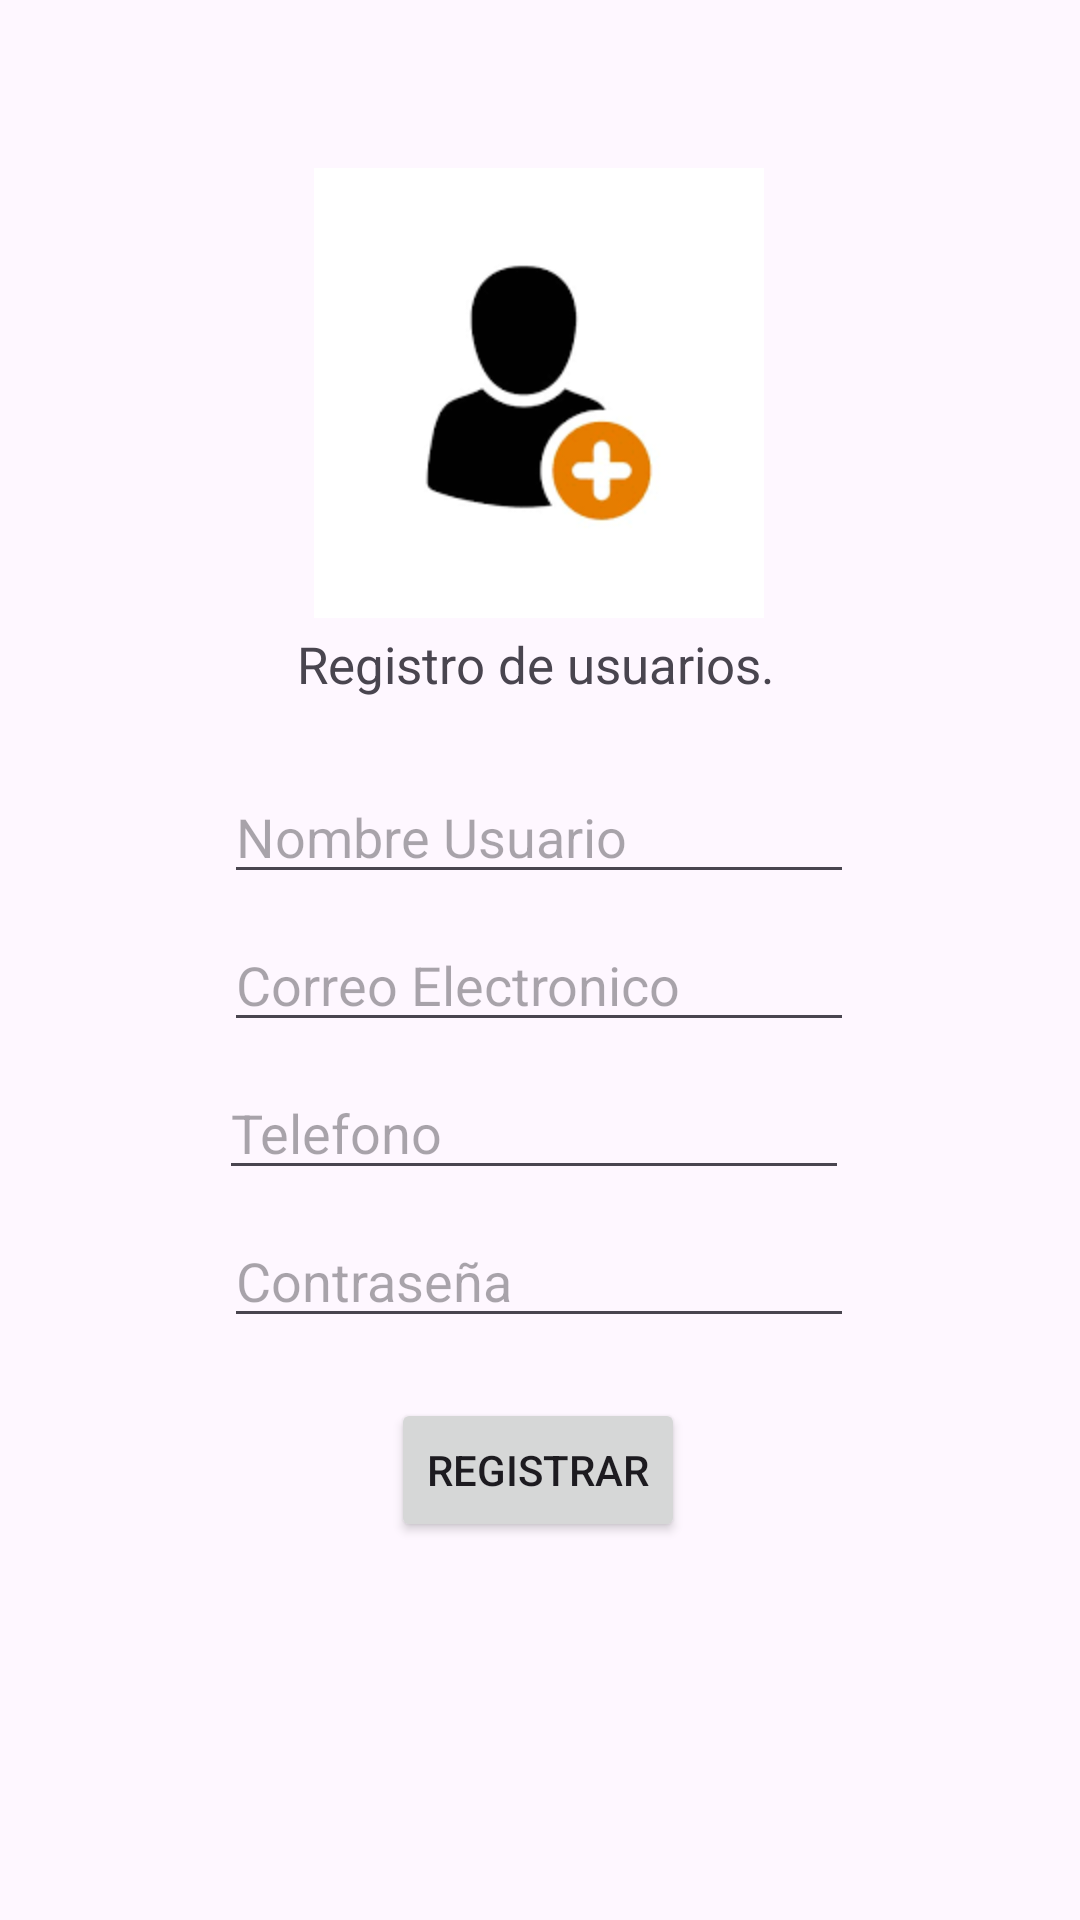

Locate icon controls on the screen. Image size 1080×1920, boxes as box=[x1, y1, x2, y2].
registrousuarios: box=[426, 265, 652, 521]
